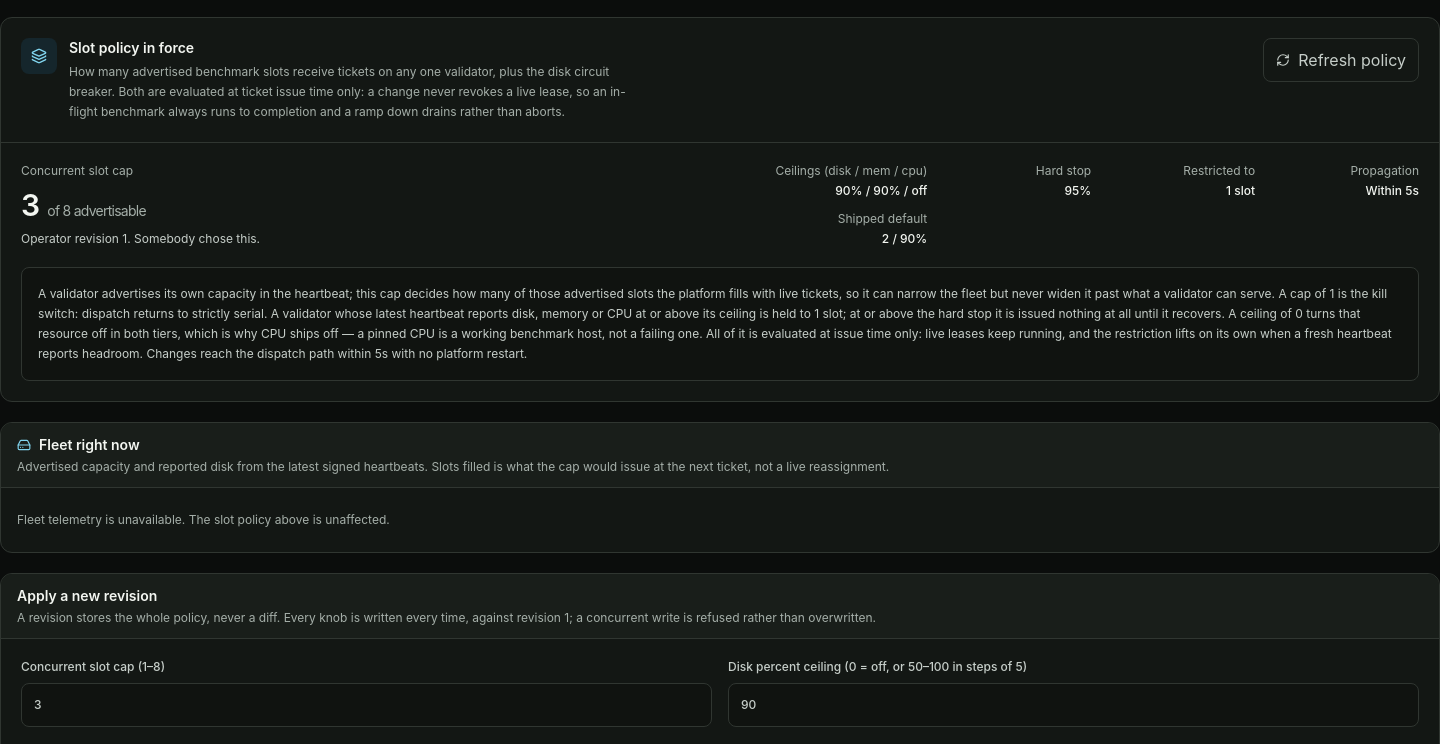
Scenario: ValidatorSlotControlPanel › refuses a confirmation that names a different cap before any request is issued
Replace the text in the number field labelled "Concurrent slot cap (1–8)" with "4" at (366, 705), box [21, 683, 712, 727]
(page scrolled)
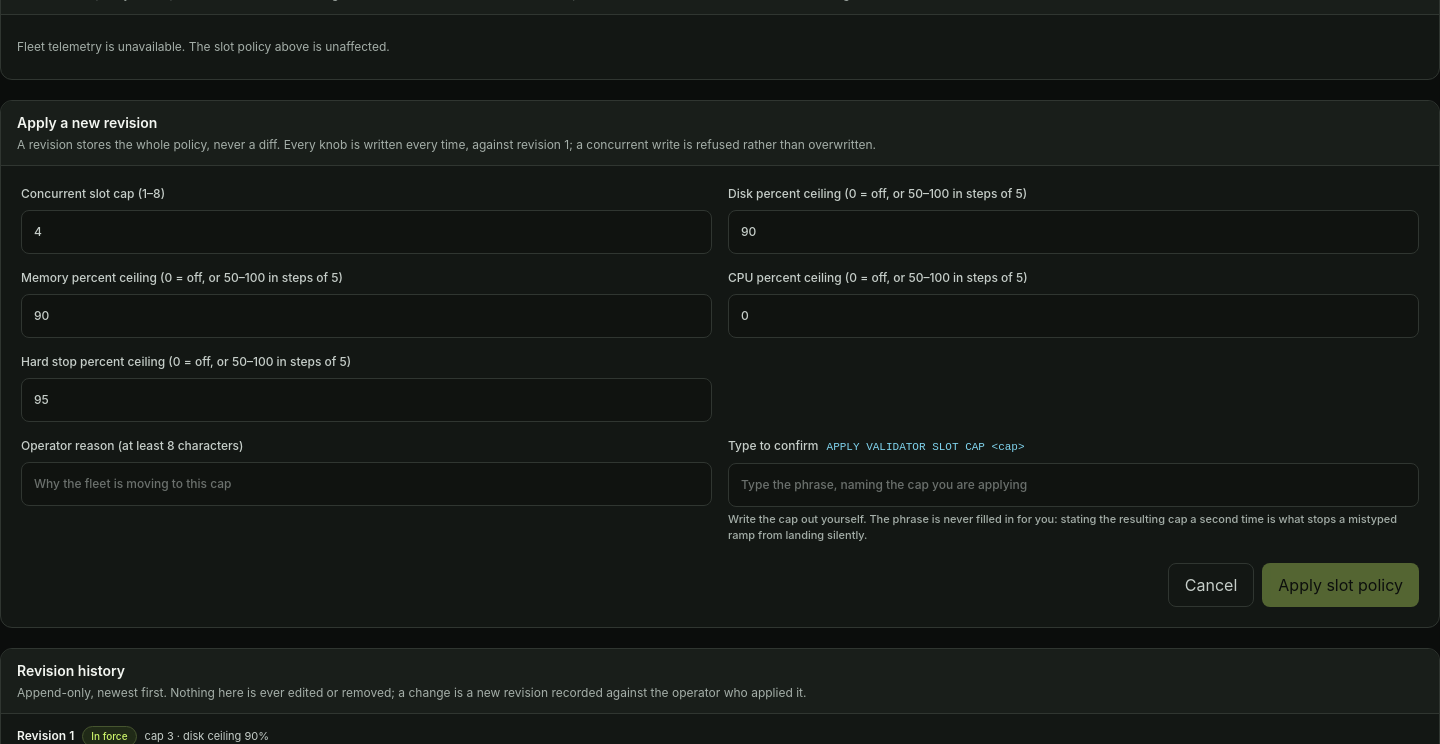
Type "ramp to four now that three has been stable for a day" into the field labelled "Operator reason (at least 8 characters)" at (366, 484), box [21, 462, 712, 506]
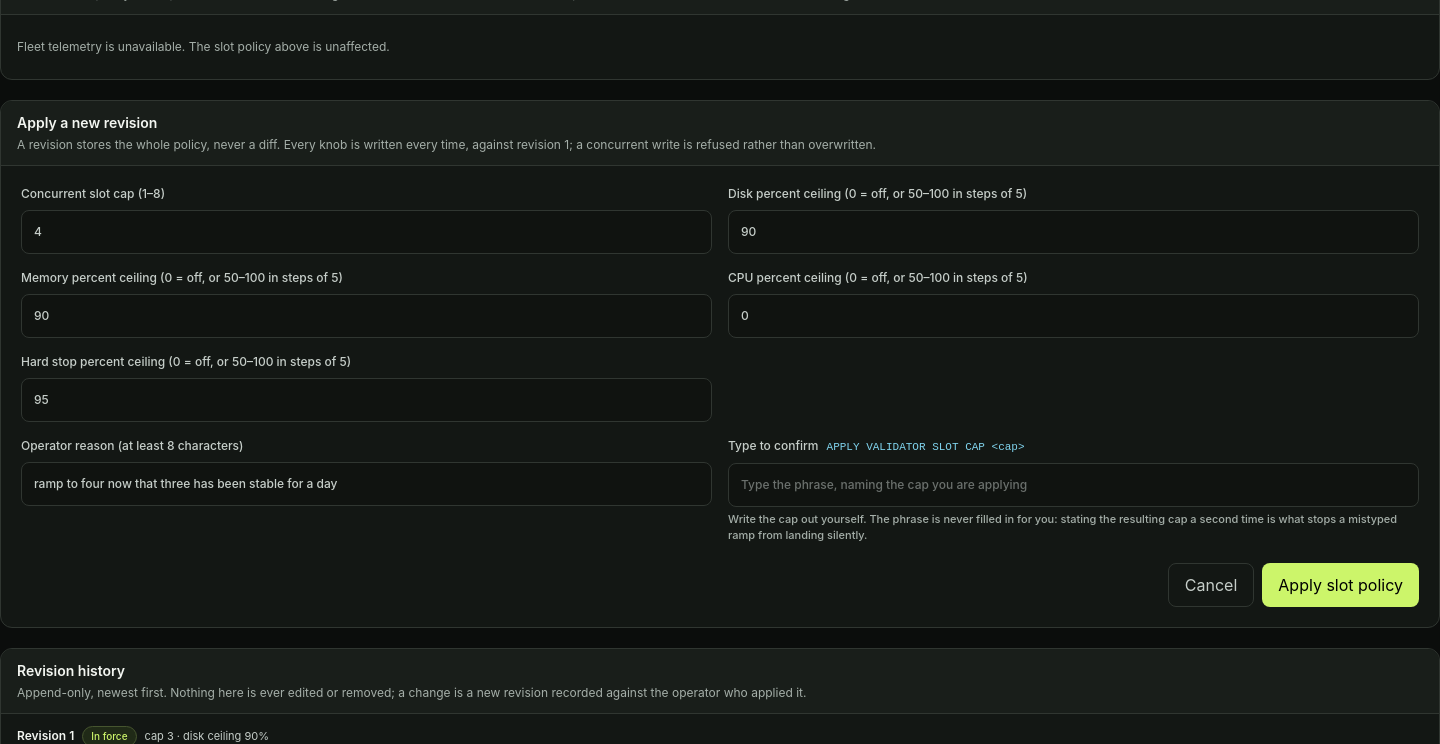
Type "APPLY VALIDATOR SLOT CAP 3" into the field labelled "Type to confirm" at (1074, 485), box [728, 463, 1419, 507]
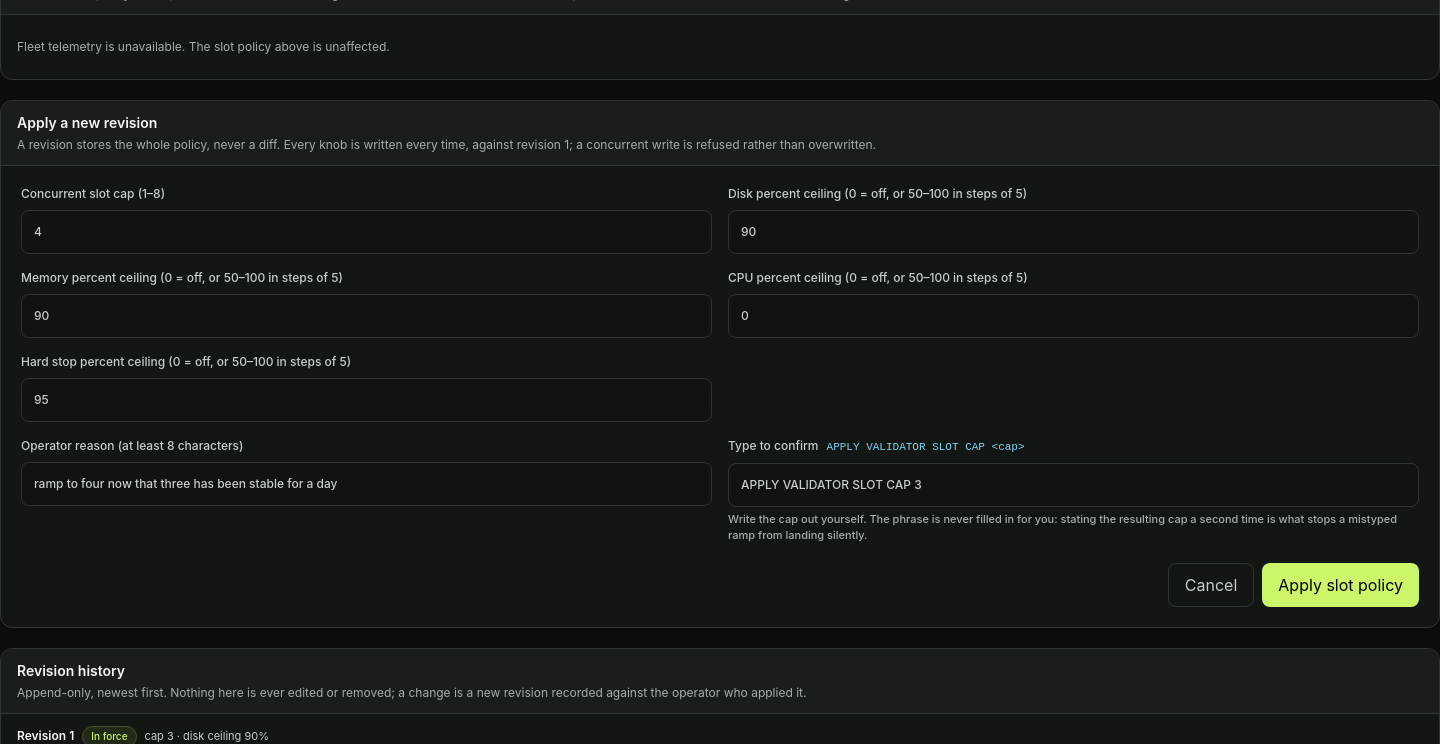
Click the button "Apply slot policy" at (1341, 585), box [1262, 563, 1419, 607]
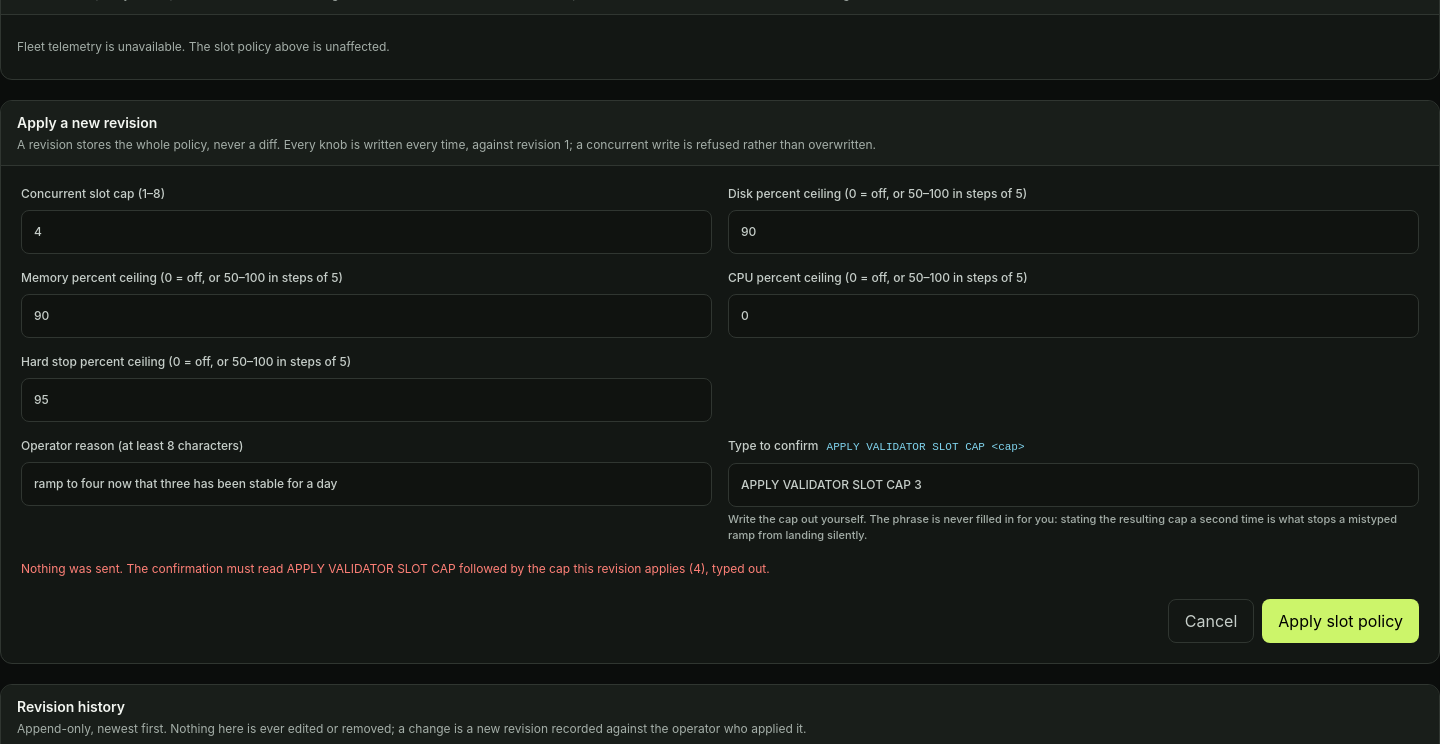
Check: the text "Nothing was sent" is shown, box [21, 561, 770, 576]
